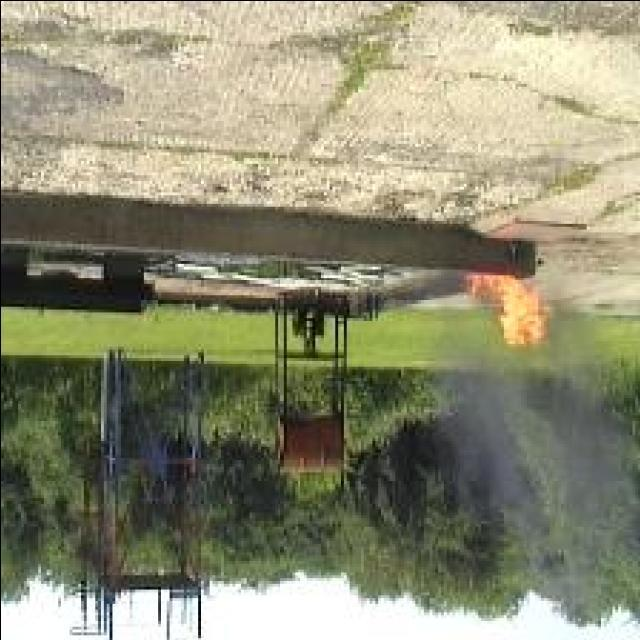Fire: (466, 272, 546, 344)
